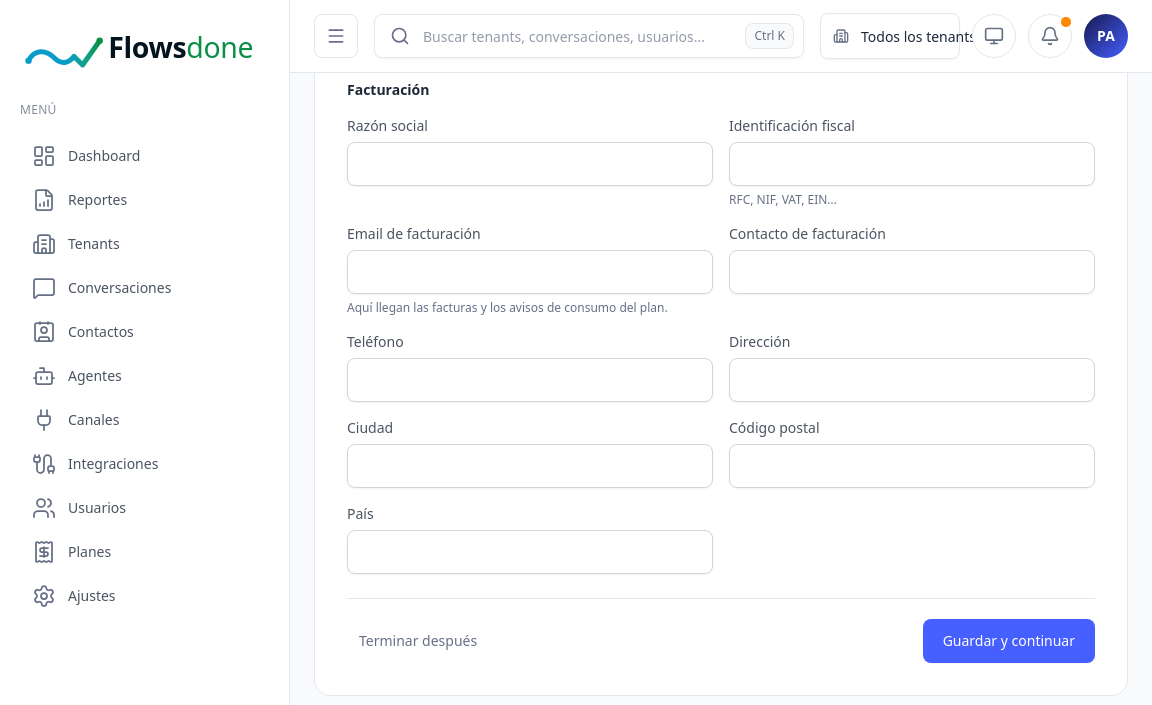
it: Alta de cliente (wizard) › exige los datos obligatorios de la empresa
(page scrolled)
Click the button "Guardar y continuar": [1009, 641] box [923,619,1095,663]
(page scrolled)
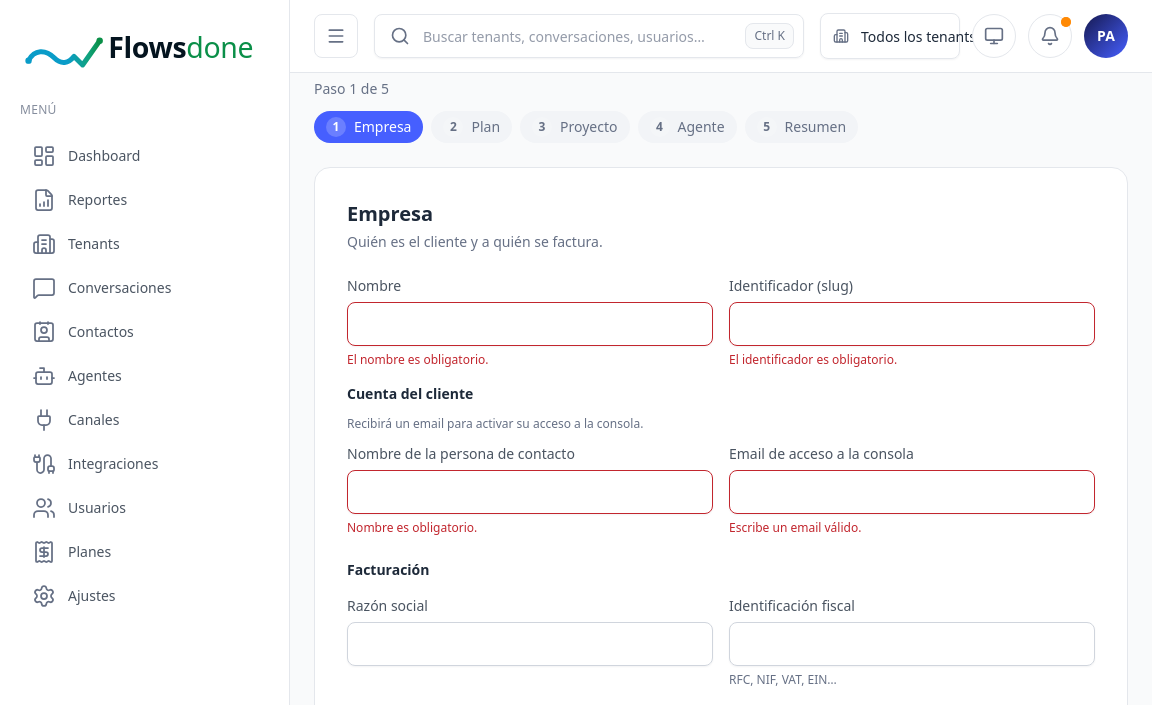
Now the text "El nombre es obligatorio." is shown, box [347,351,488,368]
Now the text "Escribe un email válido." is shown 2 times
